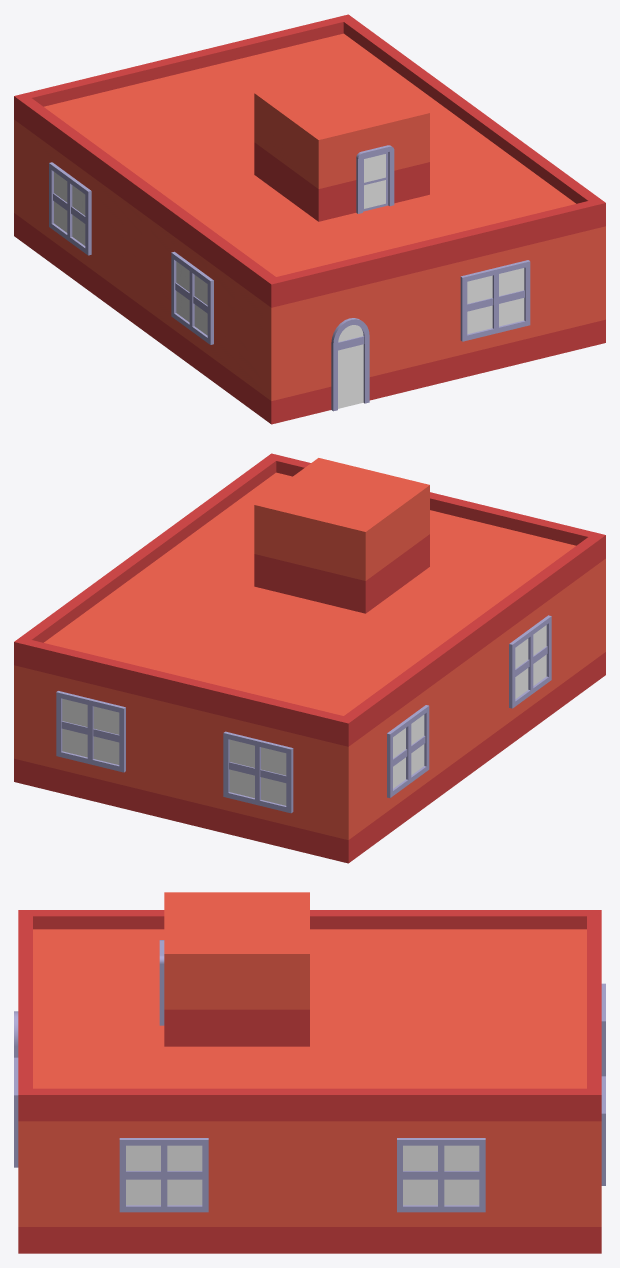
Rendered from House 4.fbx.
3 views of the same model, one above another, from view 1: azimuth 30°, elevation 25°; view 2: azimuth 150°, elevation 25°; view 3: azimuth 270°, elevation 25° (orthographic). The views are drawn at different scales.
Visible parts, largest first — view 1: mergedBlocks; view 2: mergedBlocks; view 3: mergedBlocks.
Boxes of the visible parts, x1,y1,x2,y2 form: mergedBlocks: (14,14,605,424); mergedBlocks: (14,453,605,863); mergedBlocks: (14,892,605,1253).
Bounding box in the file's own units: 30.6 × 18 × 40.6.
